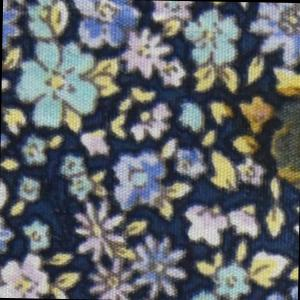Oil Stain: (219, 84, 300, 194)
